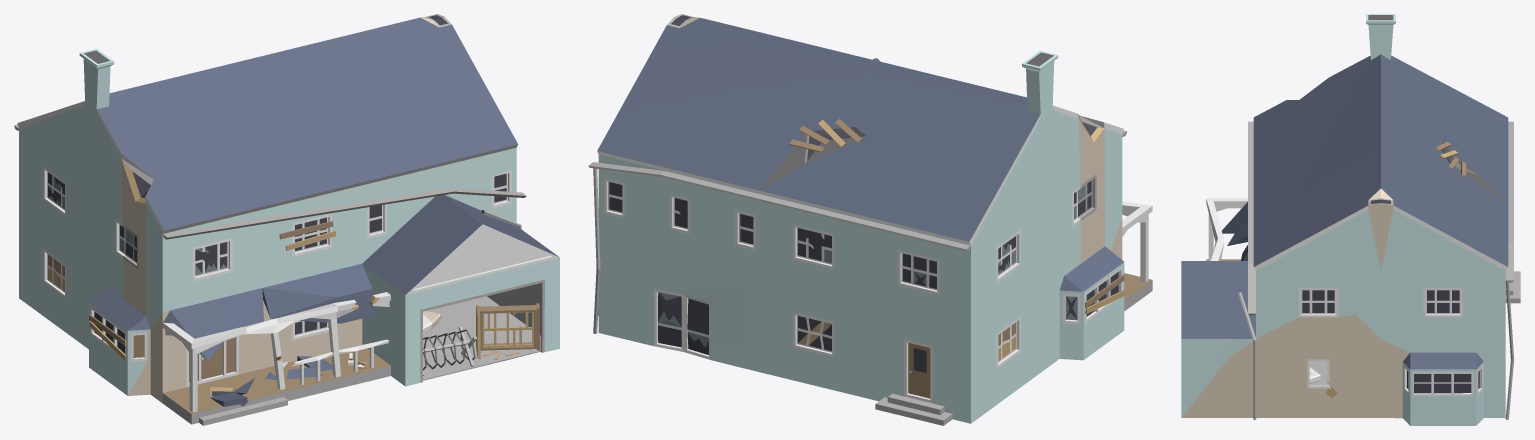
File: building-6-col.glb
3 views of the same model, side by side, from view 1: azimuth 30°, elevation 25°; view 2: azimuth 150°, elevation 25°; view 3: azimuth 270°, elevation 25° (orthographic). The views are drawn at different scales.
Parts seen in each view (by area): view 1: building_house_family_large_apocalypse-col; view 2: building_house_family_large_apocalypse-col; view 3: building_house_family_large_apocalypse-col.
Part boxes in pixels (x1=…): building_house_family_large_apocalypse-col: x1=14, y1=14, x2=559, y2=425; building_house_family_large_apocalypse-col: x1=588, y1=14, x2=1152, y2=425; building_house_family_large_apocalypse-col: x1=1181, y1=14, x2=1520, y2=425.
Size of the model in its own units: 15.74 by 11.2 by 13.6.
